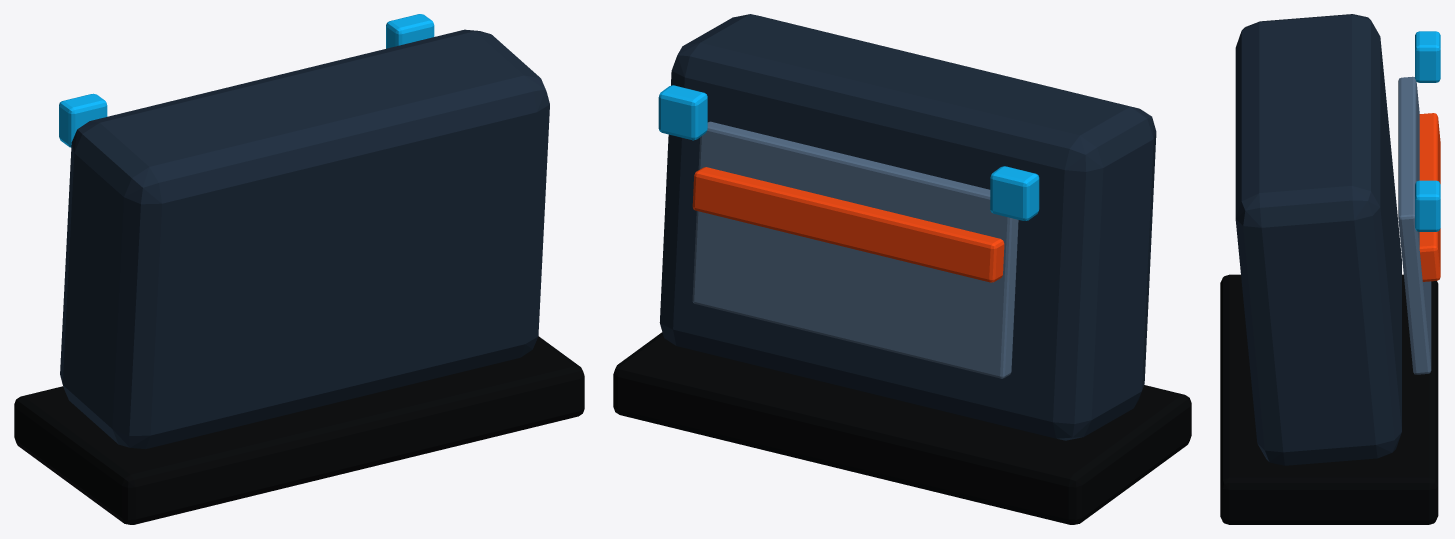
File: cover_barrier.obj
3 views of the same model, side by side, from view 1: azimuth 30°, elevation 25°; view 2: azimuth 150°, elevation 25°; view 3: azimuth 270°, elevation 25° (orthographic). The views are drawn at different scales.
Parts seen in each view (by area): view 1: cover_body_M_gunmetal, cover_foot_M_black, cover_light_r_M_cyan, cover_light_l_M_cyan; view 2: cover_body_M_gunmetal, cover_foot_M_black, cover_panel_M_steel, cover_stripe_M_orange, cover_light_l_M_cyan, cover_light_r_M_cyan; view 3: cover_body_M_gunmetal, cover_foot_M_black, cover_panel_M_steel, cover_stripe_M_orange, cover_light_r_M_cyan, cover_light_l_M_cyan.
Part boxes in pixels (bbox=[...]): cover_body_M_gunmetal: bbox=[60, 29, 549, 449]; cover_foot_M_black: bbox=[14, 336, 584, 524]; cover_light_r_M_cyan: bbox=[59, 93, 107, 147]; cover_light_l_M_cyan: bbox=[386, 14, 434, 48]; cover_body_M_gunmetal: bbox=[659, 14, 1156, 440]; cover_foot_M_black: bbox=[613, 332, 1191, 524]; cover_panel_M_steel: bbox=[692, 121, 1018, 378]; cover_stripe_M_orange: bbox=[692, 167, 1004, 282]; cover_light_l_M_cyan: bbox=[658, 85, 707, 140]; cover_light_r_M_cyan: bbox=[990, 166, 1039, 220]; cover_body_M_gunmetal: bbox=[1235, 14, 1401, 465]; cover_foot_M_black: bbox=[1220, 274, 1438, 524]; cover_panel_M_steel: bbox=[1398, 76, 1431, 374]; cover_stripe_M_orange: bbox=[1419, 113, 1440, 281]; cover_light_r_M_cyan: bbox=[1415, 31, 1440, 82]; cover_light_l_M_cyan: bbox=[1415, 180, 1440, 231].
Bounding box in the file's own units: 0.96 × 0.6867 × 0.425.
